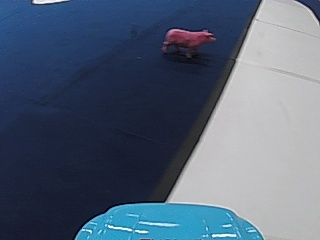pig: (160, 23, 215, 58)
